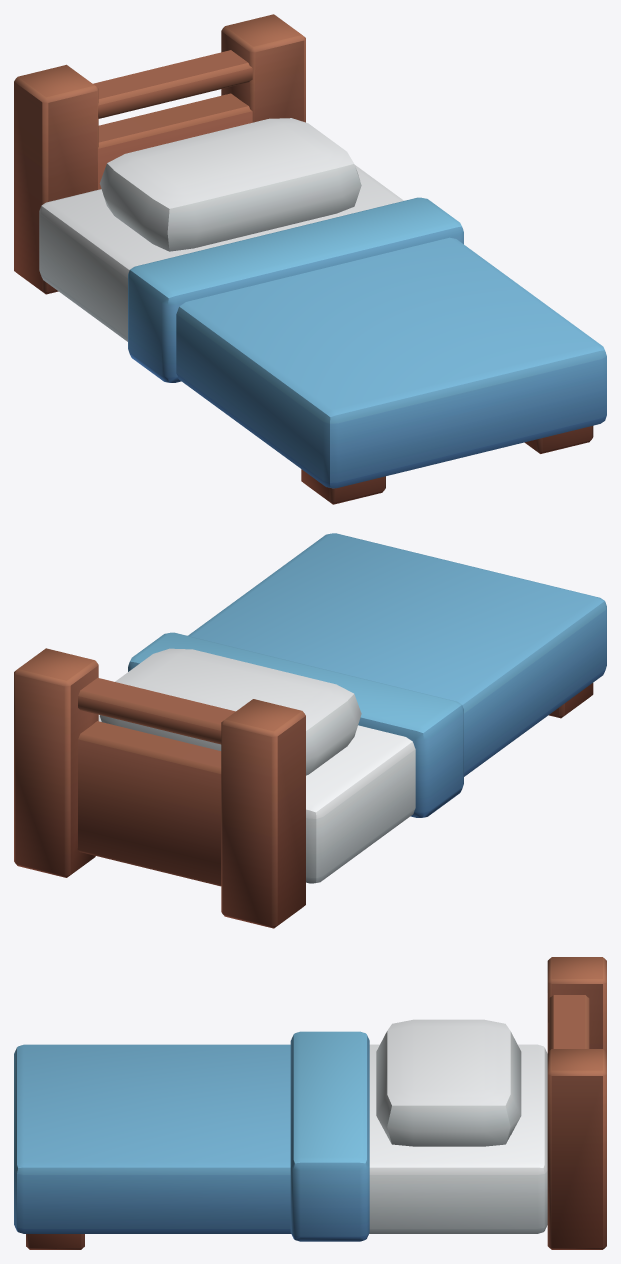
File: bed.glb
3 renders of one model, top to bottom at view 1: azimuth 30°, elevation 25°; view 2: azimuth 150°, elevation 25°; view 3: azimuth 270°, elevation 25°, orthographic. The views are drawn at different scales.
Parts seen in each view (by area): view 1: bed_single_A; view 2: bed_single_A; view 3: bed_single_A.
Part boxes in pixels (x1,y1,x2,y2): bed_single_A: [14, 14, 606, 504]; bed_single_A: [14, 533, 606, 928]; bed_single_A: [14, 957, 606, 1249].
Bounding box in the file's own units: 1.07 × 0.6666 × 2.
Materials: 1 (1 with a texture image).
